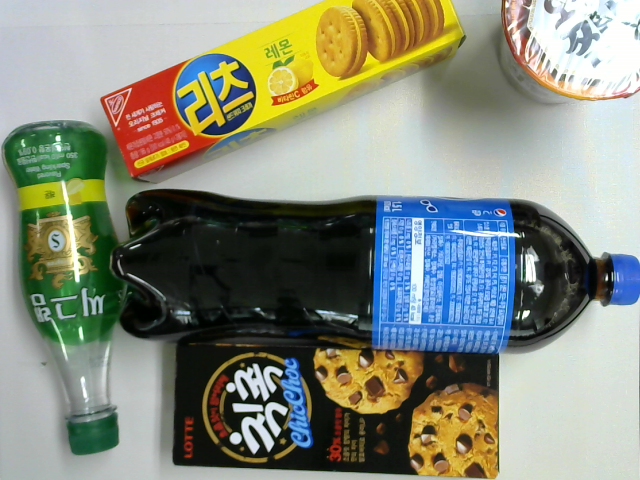Chicchok_Original_2400: (169, 338, 503, 480)
Ojjam: (493, 1, 640, 107)
Pepsi_Cola_1.5L: (110, 185, 640, 359)
Ritz_Remon_96g: (100, 2, 471, 184)
Seagram_Lemon_Carbonated_Water: (1, 118, 124, 459)
